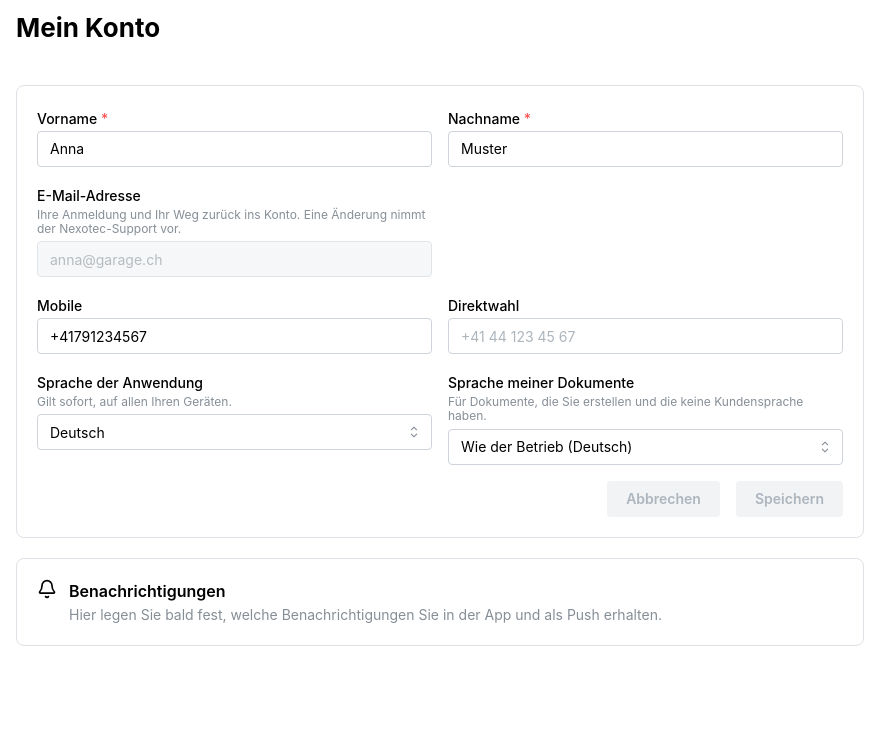
Scenario: My account (KAN-201) › saves only what changed in the profile, with If-Match, and keeps the e-mail read-only
Check: the field labelled "E-Mail-Adresse" is disabled, box [37,242,432,278]
Replace the text in the field labelled "Vorname *" with "Anja" at x=234, y=149, box [37,131,432,167]
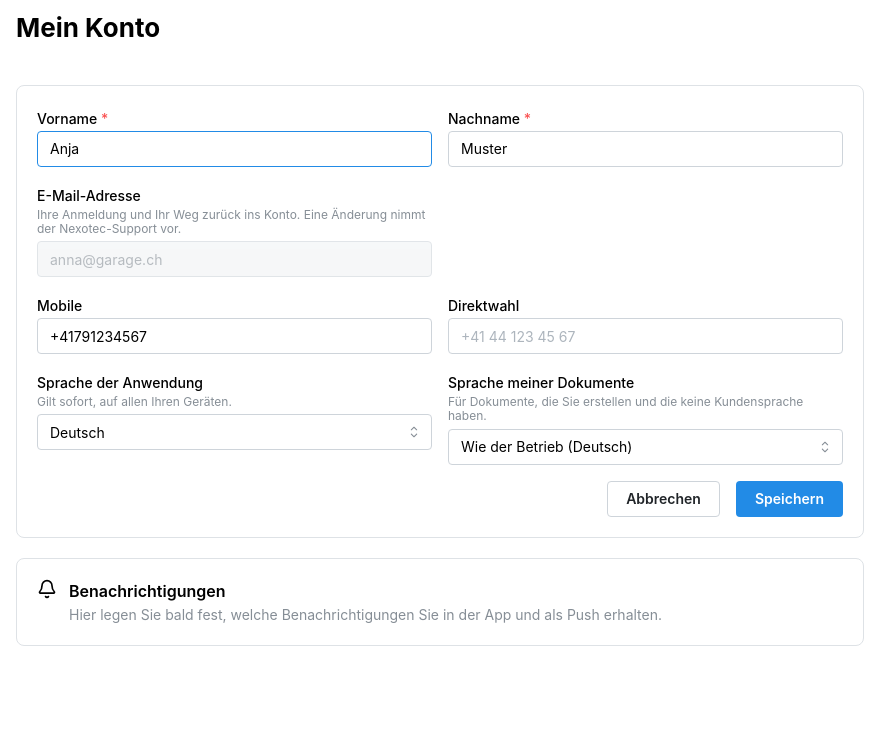
Click the button "Speichern" at x=789, y=499, box [736,481,843,517]
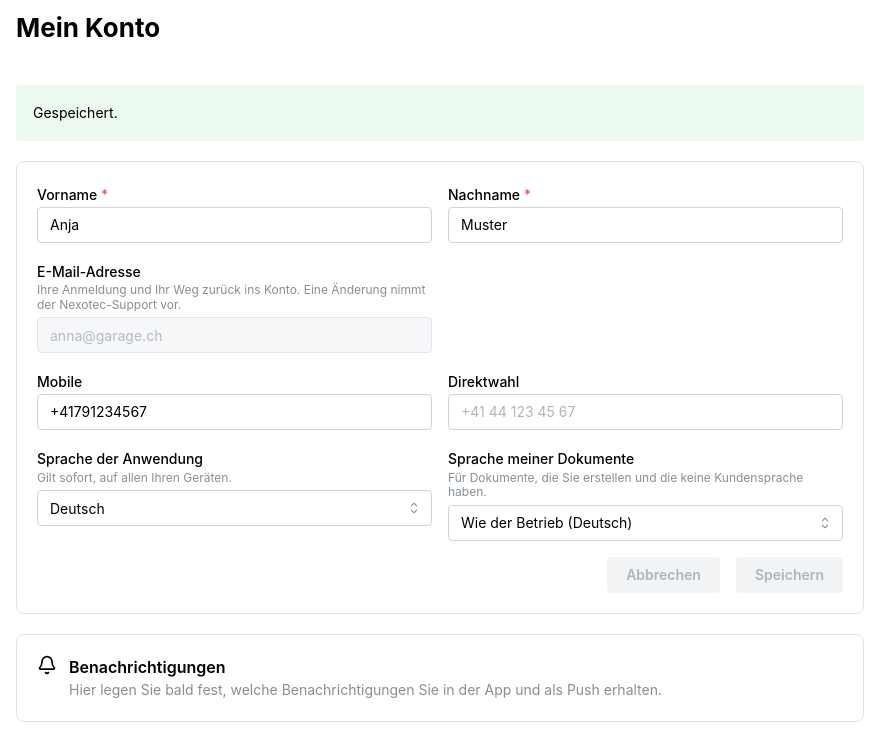
Check: the text "Gespeichert." is shown, box [33,104,118,121]
